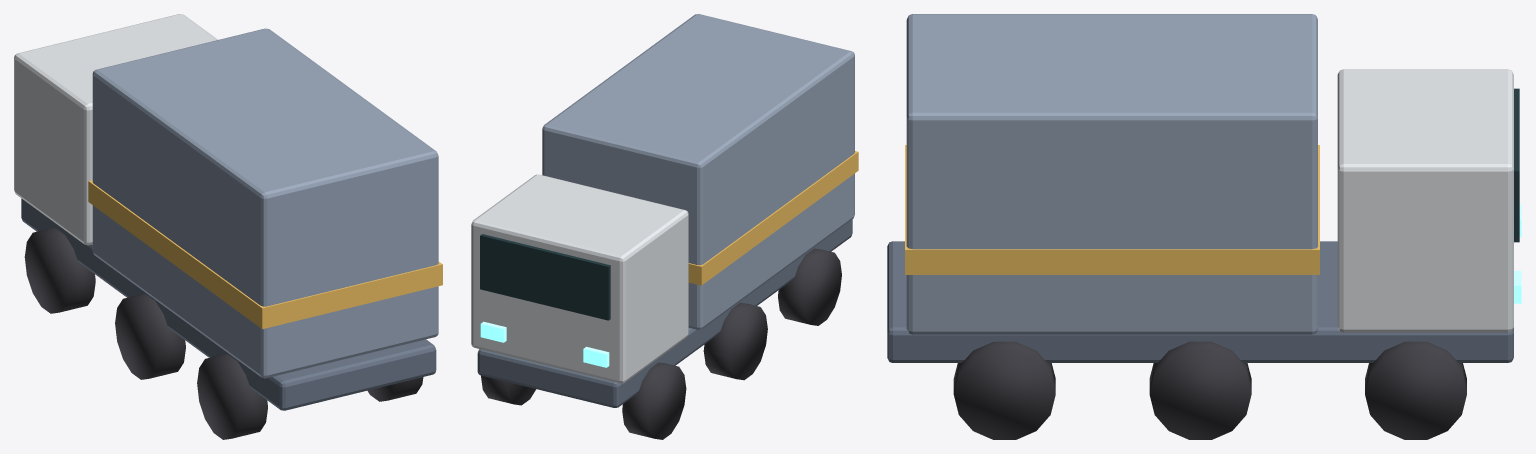
The model's file is camion.glb.
3 renders of one model, left to right at view 1: azimuth 30°, elevation 25°; view 2: azimuth 150°, elevation 25°; view 3: azimuth 270°, elevation 25°, orthographic. The views are drawn at different scales.
Parts seen in each view (by area): view 1: caja_carga, cabina, chasis, franja, rueda_-1_-1, rueda_-1_+0, rueda_-1_+1, rueda_+1_-1; view 2: caja_carga, cabina, parabrisas, chasis, rueda_-1_+0, rueda_-1_+1, rueda_-1_-1, franja, rueda_+1_+1, faro_i, faro_d; view 3: caja_carga, cabina, chasis, franja, rueda_+1_-1, rueda_+1_+0, rueda_+1_+1, parabrisas.
Boxes of the visible parts, x1,y1,x2,y2 form: caja_carga: (92,28,438,378); cabina: (14,14,217,245); chasis: (21,198,436,410); franja: (88,180,442,329); rueda_-1_-1: (197,354,267,439); rueda_-1_+0: (115,294,185,379); rueda_-1_+1: (24,228,95,313); rueda_+1_-1: (367,377,423,401); caja_carga: (542,14,854,329); cabina: (471,174,688,383); parabrisas: (480,234,610,320); chasis: (477,219,852,407); rueda_-1_+0: (703,302,767,380); rueda_-1_+1: (622,362,686,439); rueda_-1_-1: (778,248,841,325); franja: (688,151,858,285); rueda_+1_+1: (481,375,536,405); faro_i: (583,346,609,367); faro_d: (480,321,506,342); caja_carga: (906,14,1317,334); cabina: (1337,69,1513,332); chasis: (887,241,1513,362); franja: (905,145,1319,274); rueda_+1_-1: (953,341,1055,439); rueda_+1_+0: (1149,341,1251,439); rueda_+1_+1: (1365,341,1466,439); parabrisas: (1514,88,1519,242).
Bounding box in the file's own units: 1.3 × 1.82 × 3.24.
